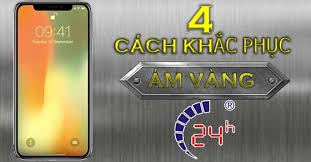iphone: (13, 1, 93, 162)
iphone10: (12, 1, 92, 160)
